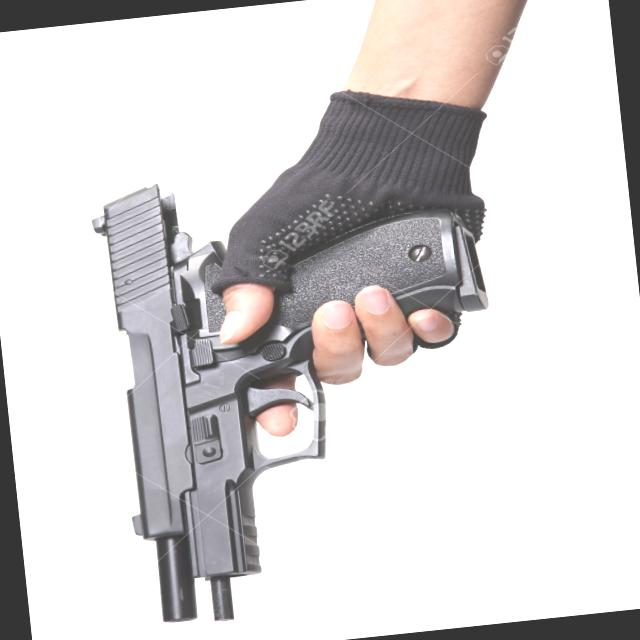handgun: (90, 146, 517, 630)
